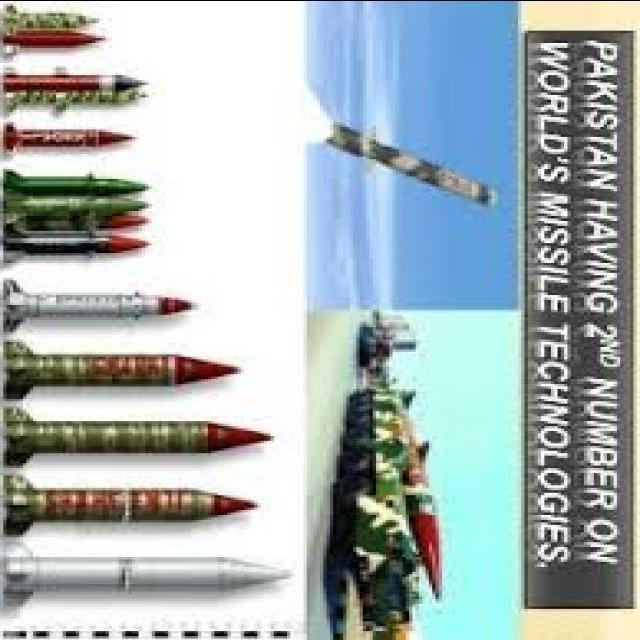Missile: (0, 470, 274, 536), (315, 125, 505, 216), (1, 339, 249, 401), (8, 554, 296, 592)
